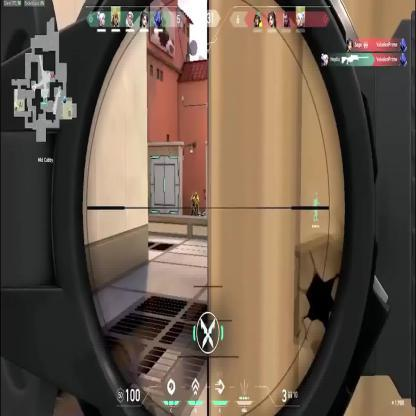enemy: (193, 192, 199, 217), (191, 191, 196, 216)
enemy_head: (195, 192, 198, 197), (192, 191, 194, 197)
